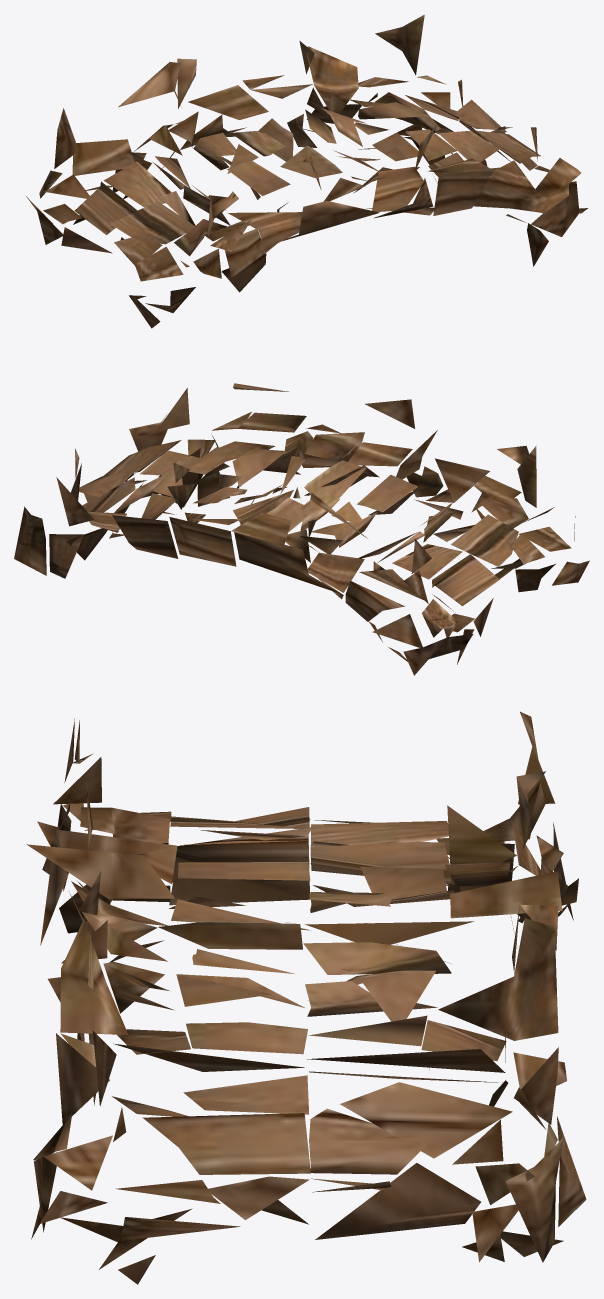
File: bridge.glb
The picture shows the model from 3 angles, top to bottom: view 1: azimuth 30°, elevation 25°; view 2: azimuth 150°, elevation 25°; view 3: azimuth 270°, elevation 25°; orthographic projection. The views are drawn at different scales.
Visible parts, largest first — view 1: x-bridge; view 2: x-bridge; view 3: x-bridge.
Part boxes in pixels (x1=…): x-bridge: x1=26, y1=14, x2=587, y2=328; x-bridge: x1=14, y1=383, x2=589, y2=675; x-bridge: x1=26, y1=711, x2=586, y2=1284.
Size of the model in its own units: 0.201 by 0.0701 by 0.1206.
1 material, 1 textured.
